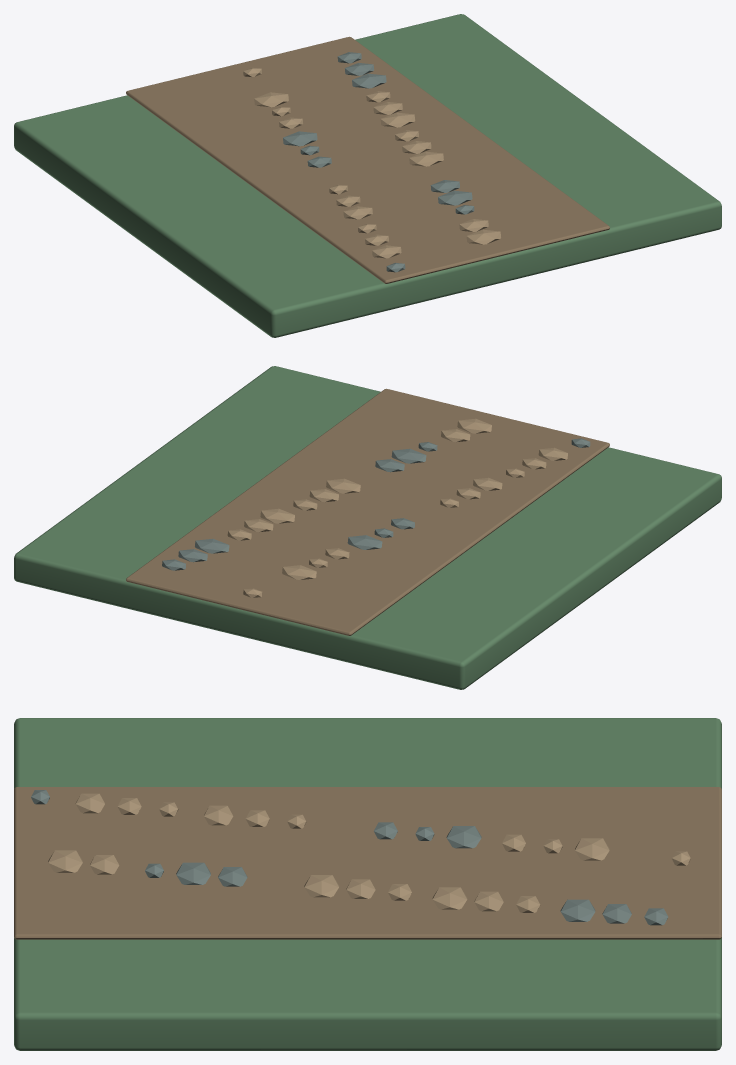
Rendered from SM_Path_Dirt_4m.fbx.
3 views of the same model, one above another, from view 1: azimuth 30°, elevation 25°; view 2: azimuth 150°, elevation 25°; view 3: azimuth 270°, elevation 25° (orthographic). The views are drawn at different scales.
Parts seen in each view (by area): view 1: SM_Path_Dirt_4m; view 2: SM_Path_Dirt_4m; view 3: SM_Path_Dirt_4m.
Part boxes in pixels (x1,y1,x2,y2): SM_Path_Dirt_4m: (14, 14, 721, 337); SM_Path_Dirt_4m: (14, 366, 721, 689); SM_Path_Dirt_4m: (14, 718, 721, 1050).
Size of the model in its own units: 4 by 0.315 by 4.
